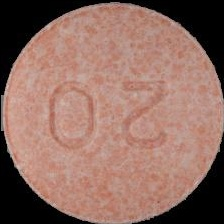54458-873: (0, 0, 224, 224)
